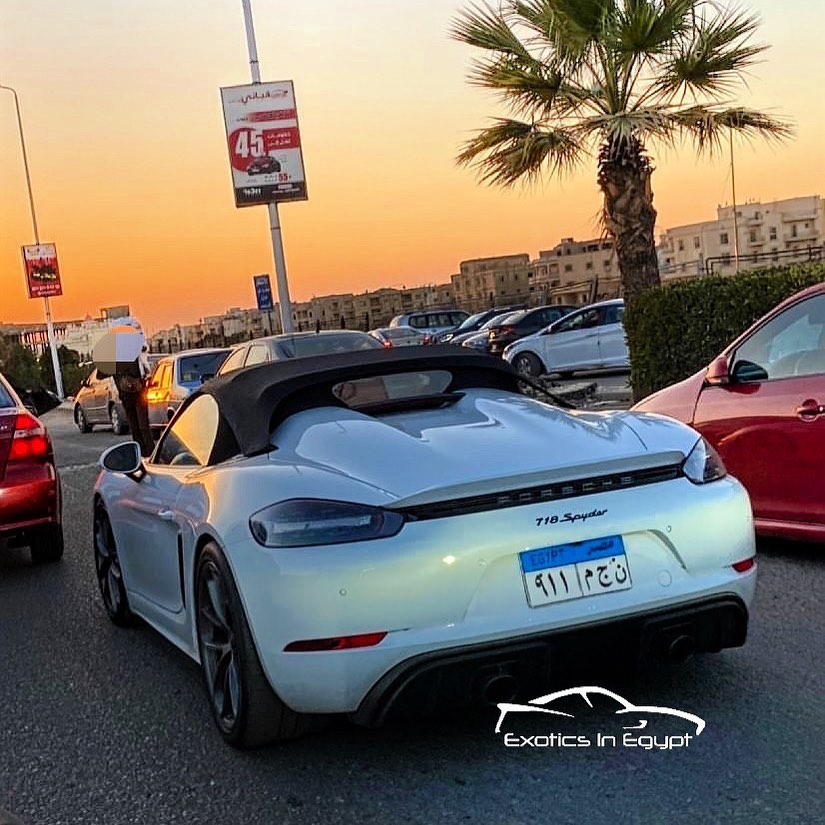carpl: (518, 535, 642, 608)
